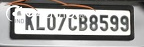0: (46, 12, 56, 30)
5: (99, 14, 109, 31)
7: (57, 13, 67, 31)
8: (89, 14, 99, 32)
9: (119, 14, 130, 32), (109, 14, 119, 32)
B: (78, 13, 88, 32)
C: (67, 13, 78, 31)
K: (24, 12, 35, 31)
L: (34, 14, 46, 31)
